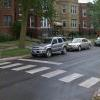Crosswalk: (4, 54, 97, 93)
